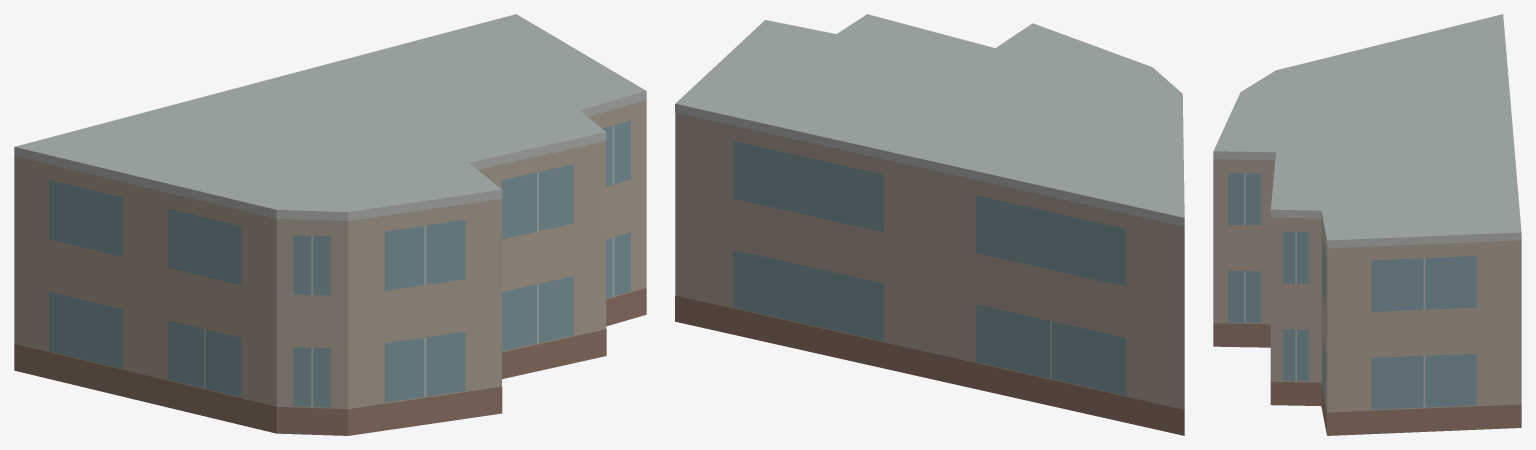
Rendered from survey-upis-32732294.glb.
3 views of the same model, side by side, from view 1: azimuth 30°, elevation 25°; view 2: azimuth 150°, elevation 25°; view 3: azimuth 270°, elevation 25° (orthographic). The views are drawn at different scales.
Visible parts, largest first — view 1: survey-upis-32732294.tmp; view 2: survey-upis-32732294.tmp; view 3: survey-upis-32732294.tmp.
Boxes of the visible parts, x1=… form: survey-upis-32732294.tmp: x1=14, y1=14, x2=646, y2=435; survey-upis-32732294.tmp: x1=675, y1=14, x2=1184, y2=435; survey-upis-32732294.tmp: x1=1213, y1=14, x2=1521, y2=435.
Bounding box in the file's own units: 15.18 × 6.1 × 8.73.
